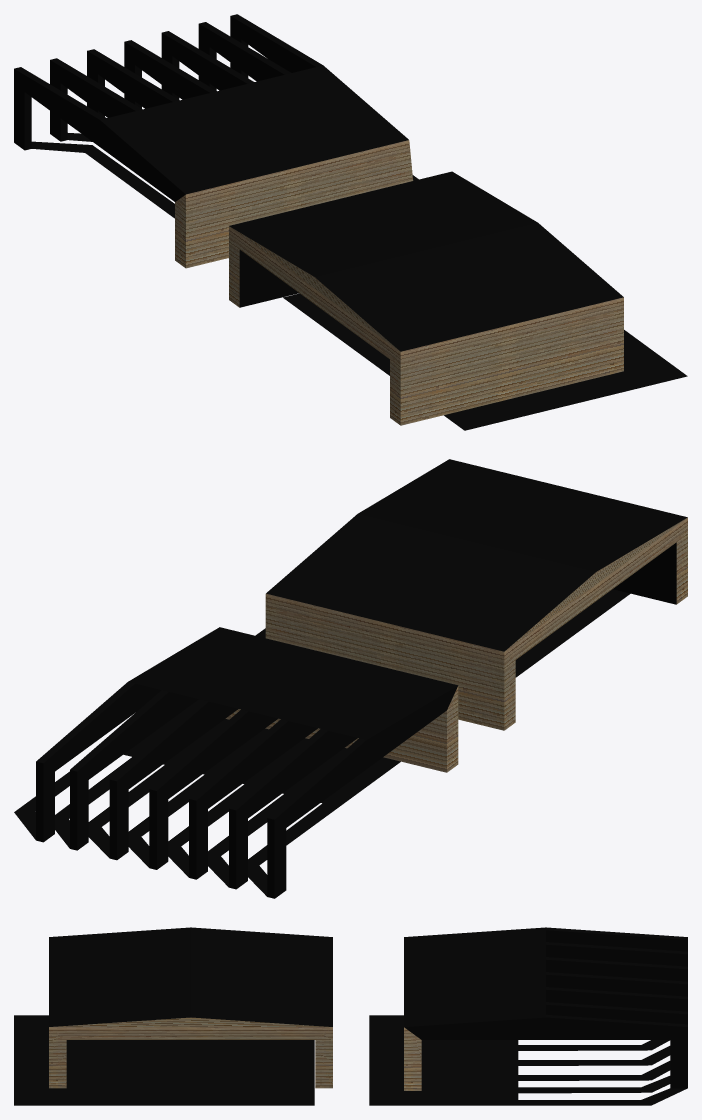
Rendered from hangar2.glb.
3 views of the same model, one above another, from view 1: azimuth 30°, elevation 25°; view 2: azimuth 150°, elevation 25°; view 3: azimuth 270°, elevation 25° (orthographic). The views are drawn at different scales.
Visible parts, largest first — view 1: Hangar2, Hangar1; view 2: Hangar1, Hangar2; view 3: Hangar2, Hangar1.
Boxes of the visible parts, x1=… form: Hangar2: x1=229, y1=171, x2=687, y2=430; Hangar1: x1=14, y1=14, x2=418, y2=268; Hangar1: x1=14, y1=627, x2=458, y2=898; Hangar2: x1=255, y1=459, x2=687, y2=730; Hangar2: x1=14, y1=927, x2=332, y2=1105; Hangar1: x1=369, y1=927, x2=687, y2=1105.
Bounding box in the file's own units: 21.8 × 6.71 × 57.87.
Materials: 3 (1 with a texture image).
